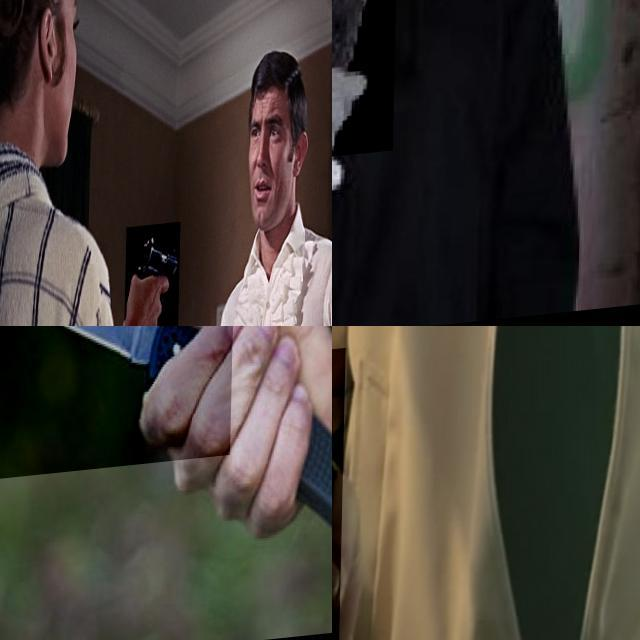-: (0, 326, 236, 485), (332, 0, 401, 182)
gun-knife-thesis - v11 Yolov5 augmented: (332, 353, 417, 640), (125, 227, 182, 326)
